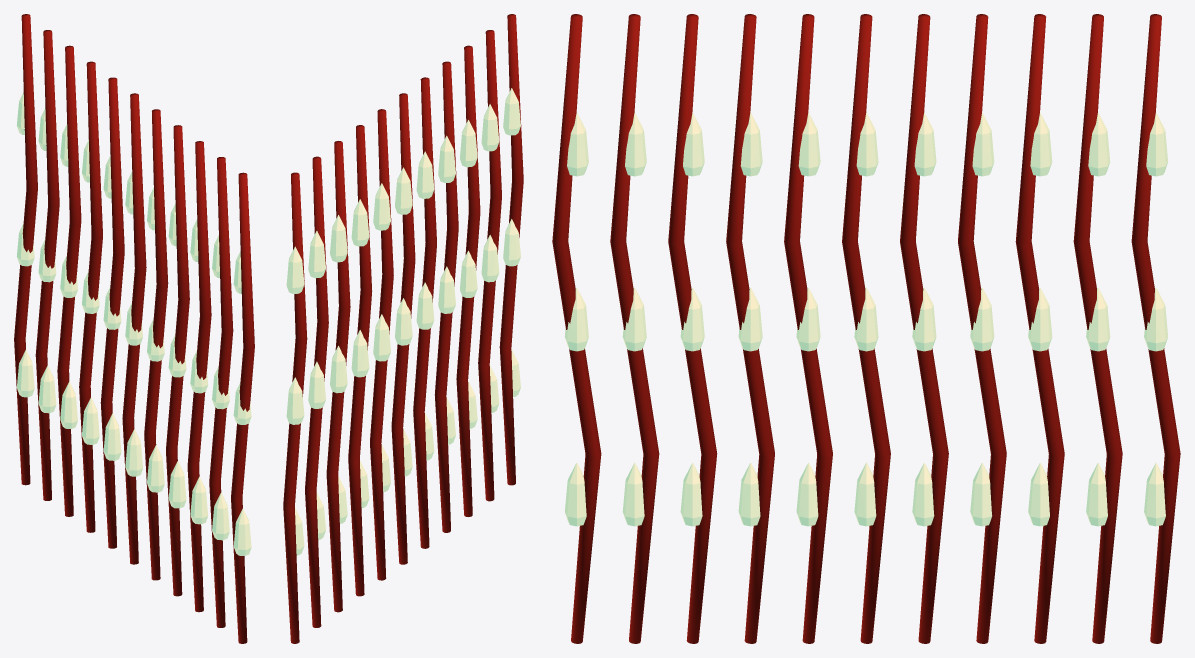
File: SM_RV_Gate.fbx
3 renders of one model, left to right at view 1: azimuth 30°, elevation 25°; view 2: azimuth 150°, elevation 25°; view 3: azimuth 270°, elevation 25°, orthographic. The views are drawn at different scales.
Visible parts, largest first — view 1: SM_RV_Gate; view 2: SM_RV_Gate; view 3: SM_RV_Gate.
Part boxes in pixels (bbox=[...]): SM_RV_Gate: bbox=[14, 14, 254, 643]; SM_RV_Gate: bbox=[283, 14, 523, 643]; SM_RV_Gate: bbox=[552, 14, 1180, 643].
Size of what is drawn, in the model's own units: 456 by 17.1 by 501.
